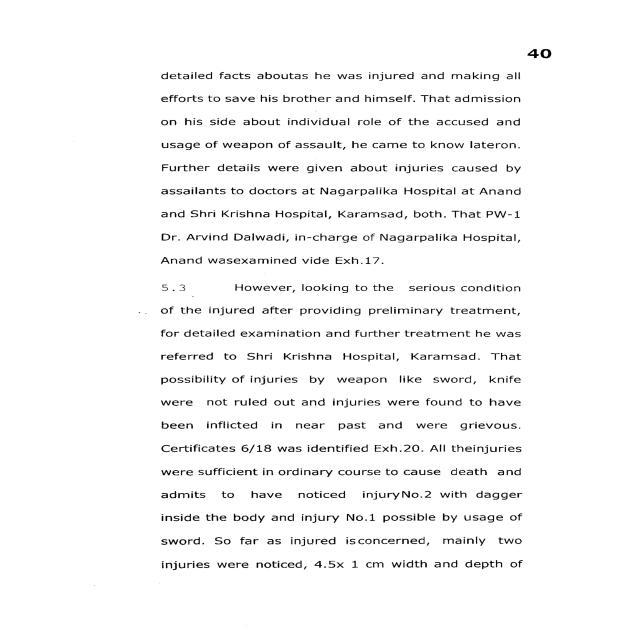page-number: (430, 0, 640, 66)
